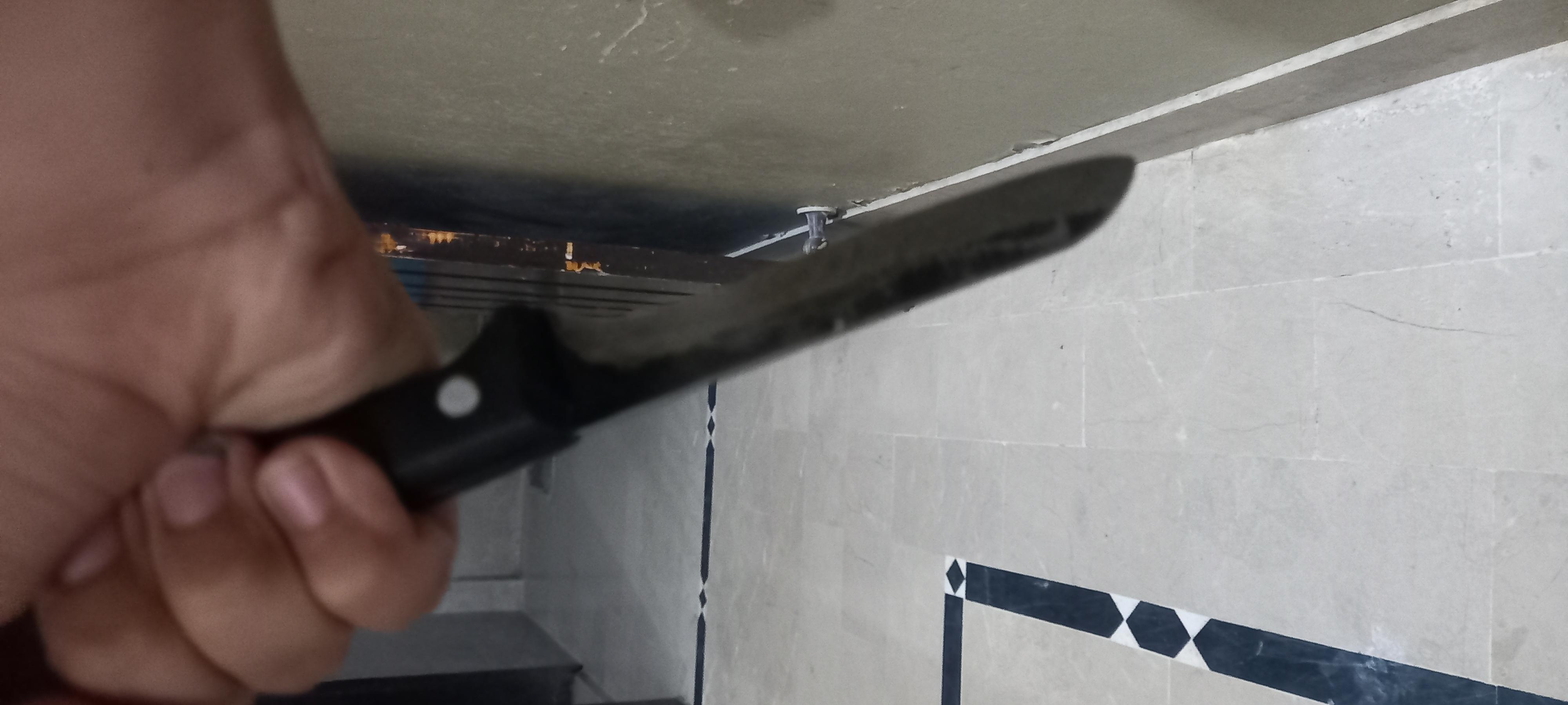knives: (200, 53, 1288, 521)
